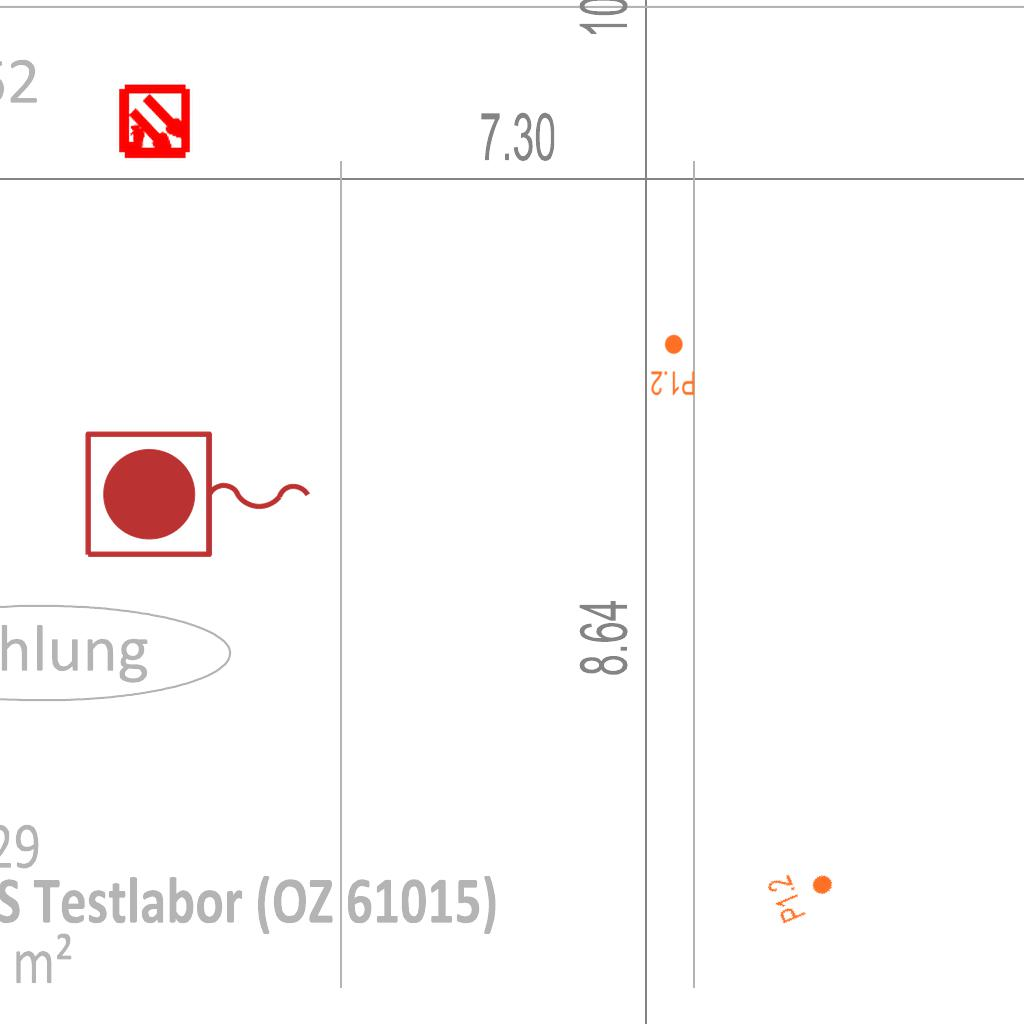Downlight_LED_Einbauleuchten_Flur: (764, 858, 842, 926), (650, 333, 696, 397)
OT_Multisensormelder_(Kombination_RMO_WMD): (98, 67, 211, 180)
Zugtaster: (77, 424, 321, 568)
